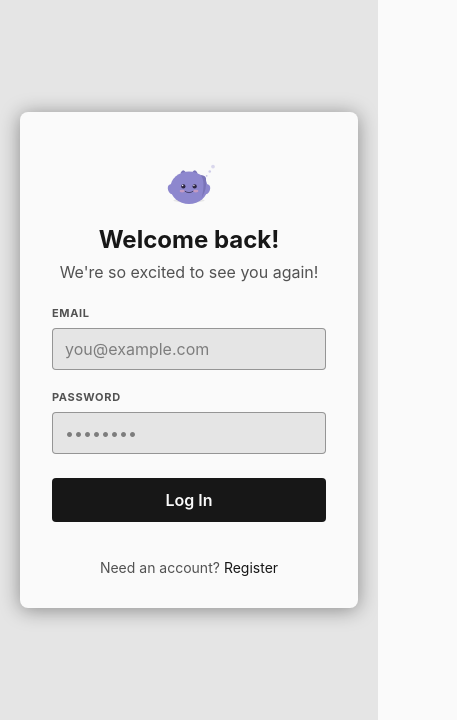
Test: Auth — login › shows the "check your email" screen (not the raw error code) for an unverified account
Type "unverified@example.com" into the field labelled "Email".
click(189, 349); type("unverified@example.com")  # box [52,328,326,370]
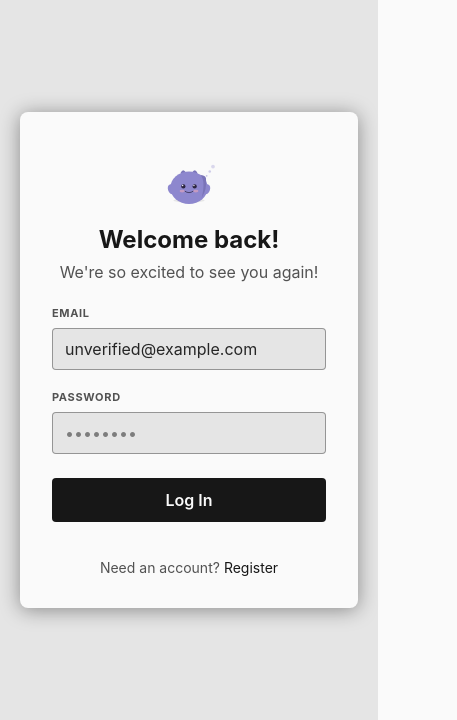
Type "password123" into the password field labelled "Password".
click(189, 433); type("password123")  # box [52,412,326,454]
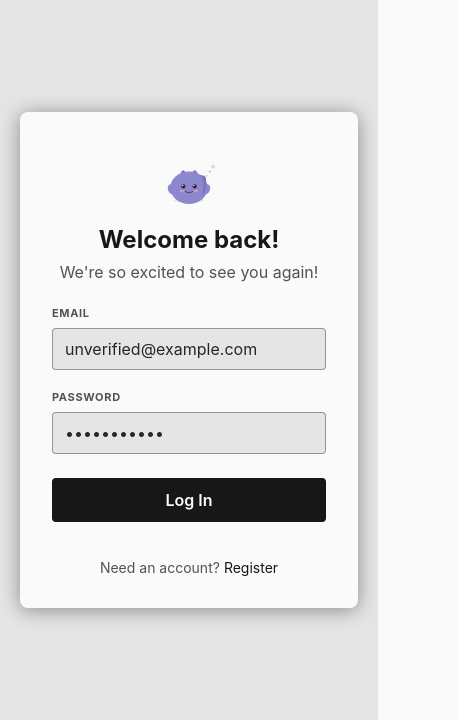
Click the submit button.
click(189, 500)  # box [52,478,326,522]
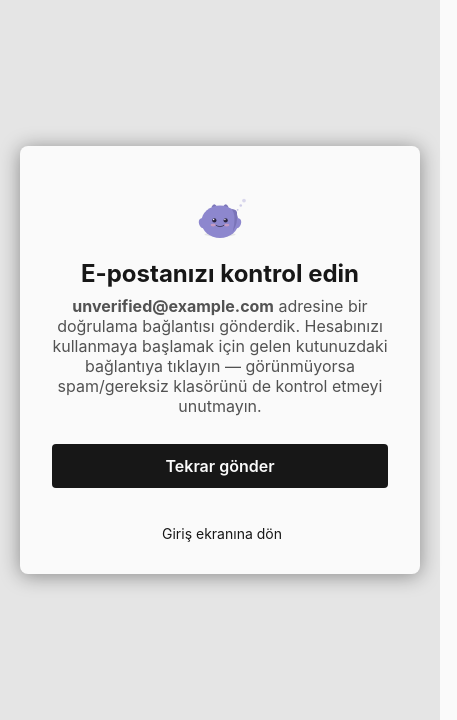
expect the heading "E-postanızı kontrol edin" is shown: met, box [81,259,359,288]
expect the text "unverified@example.com" is shown: met, box [72,296,274,316]
